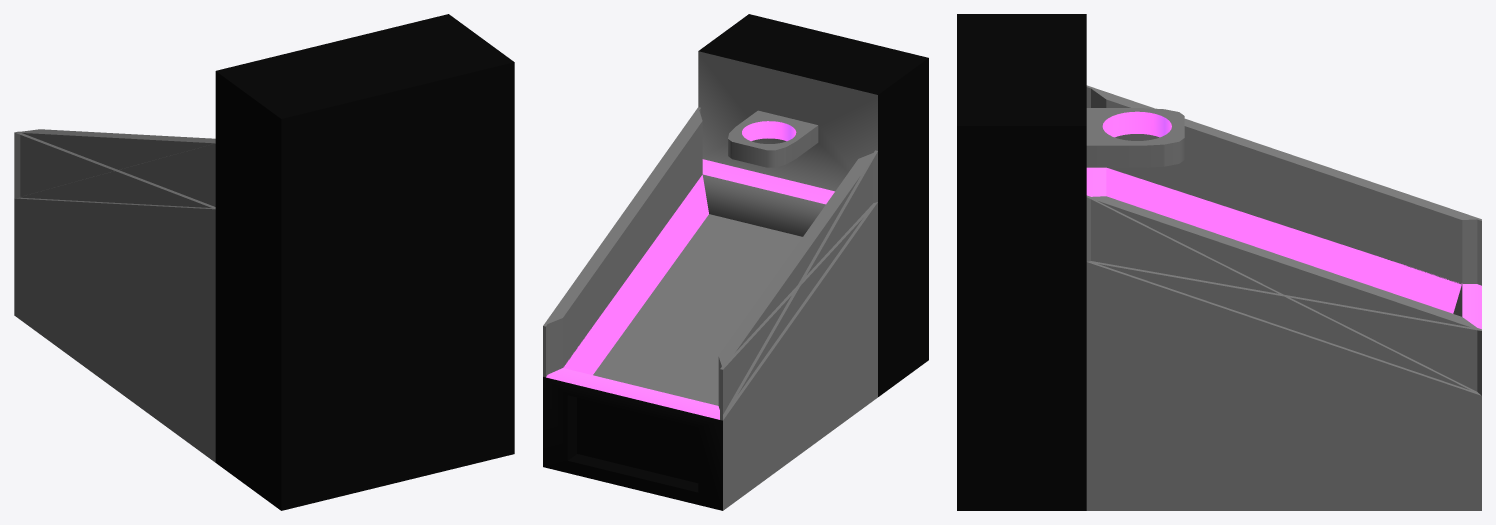
Rendered from basketballmachine.fbx.
3 renders of one model, left to right at view 1: azimuth 30°, elevation 25°; view 2: azimuth 150°, elevation 25°; view 3: azimuth 270°, elevation 25°, orthographic. The views are drawn at different scales.
Visible parts, largest first — view 1: Cube; view 2: Cube; view 3: Cube.
Part boxes in pixels (<box>): Cube: <box>14,14,514,510</box>; Cube: <box>543,14,928,510</box>; Cube: <box>957,14,1481,510</box>.
Size of the model in its own units: 417 by 670 by 827.
